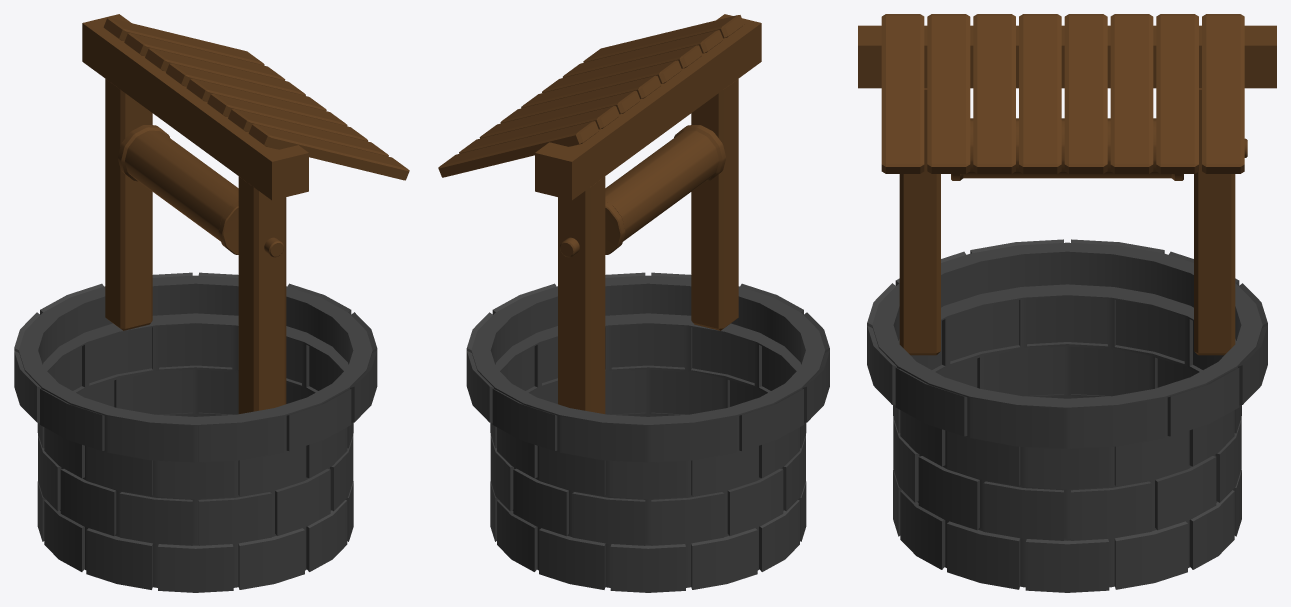
File: Weel_Normal.fbx
3 renders of one model, left to right at view 1: azimuth 30°, elevation 25°; view 2: azimuth 150°, elevation 25°; view 3: azimuth 270°, elevation 25°, orthographic. The views are drawn at different scales.
Parts seen in each view (by area): view 1: Cylinder, Cube.003, Cube.002, Cube, Cube.001, Cylinder.001; view 2: Cylinder, Cube.003, Cube.002, Cube.001, Cube, Cylinder.001; view 3: Cylinder, Cube.003, Cube, Cube.001, Cube.002, Cylinder.001.
Part boxes in pixels (box(x1,y1,x2,y2)): Cylinder: box(14, 272, 377, 592); Cube.003: box(103, 17, 409, 180); Cube.002: box(82, 14, 308, 200); Cube: box(238, 176, 286, 413); Cube.001: box(105, 79, 152, 330); Cylinder.001: box(118, 125, 283, 257); Cylinder: box(466, 272, 829, 592); Cube.003: box(438, 15, 744, 177); Cube.002: box(535, 14, 761, 200); Cube.001: box(558, 176, 605, 413); Cube: box(691, 79, 738, 330); Cylinder.001: box(560, 125, 725, 257); Cylinder: box(867, 239, 1267, 592); Cube.003: box(881, 14, 1244, 173); Cube: box(899, 88, 940, 355); Cube.001: box(1194, 88, 1235, 355); Cube.002: box(858, 25, 1276, 88); Cylinder.001: box(951, 118, 1247, 180).
Bounding box in the file's own units: 236 × 325 × 247.
